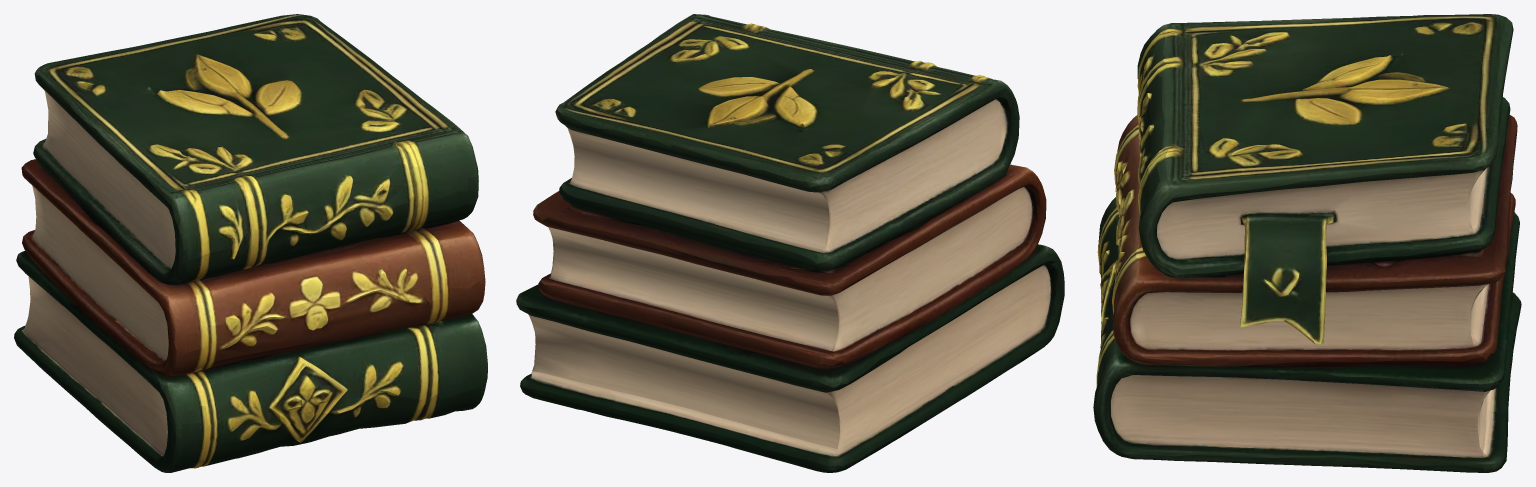
The model's file is book.glb.
3 views of the same model, side by side, from view 1: azimuth 30°, elevation 25°; view 2: azimuth 150°, elevation 25°; view 3: azimuth 270°, elevation 25° (orthographic). The views are drawn at different scales.
Visible parts, largest first — view 1: geometry_0; view 2: geometry_0; view 3: geometry_0.
Part boxes in pixels (x1,y1,x2,y2): geometry_0: (14, 14, 487, 472); geometry_0: (516, 14, 1064, 472); geometry_0: (1093, 14, 1521, 472).
Bounding box in the file's own units: 0.22 × 0.1708 × 0.2138.
Materials: 1 (1 with a texture image).
